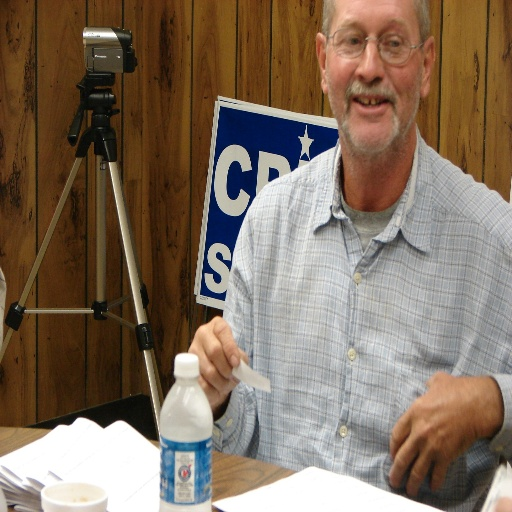hand: (384, 368, 504, 494), (184, 313, 250, 412)
